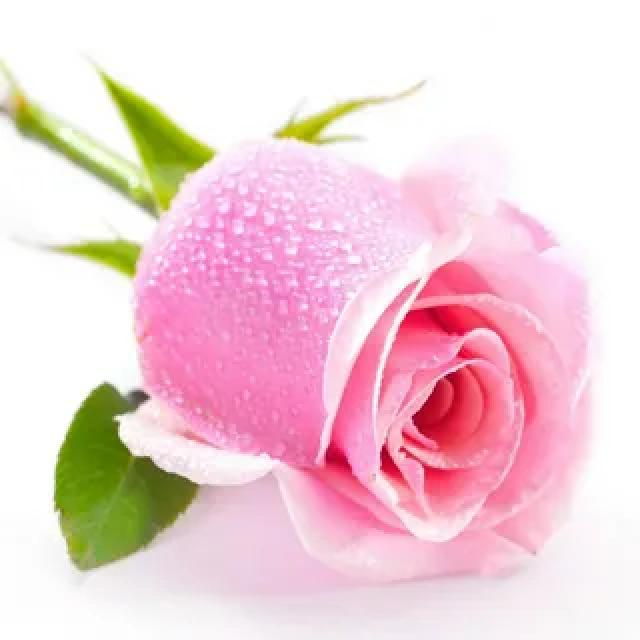rose: (113, 111, 610, 598)
